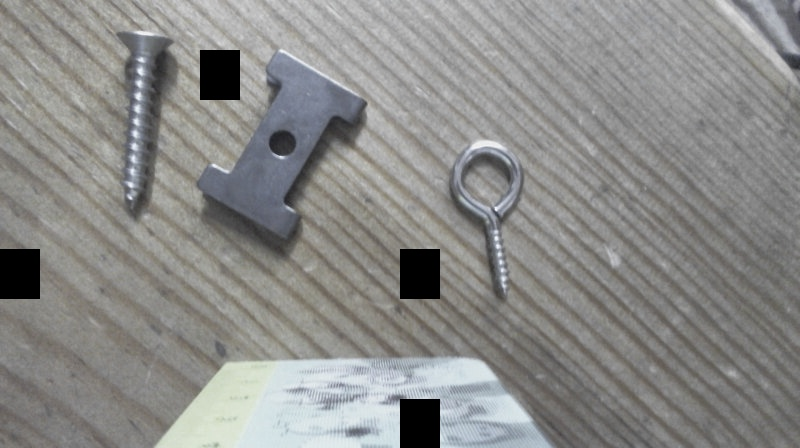O001: (445, 139, 525, 303)
O002: (194, 46, 372, 244)
S001: (111, 25, 177, 217)
